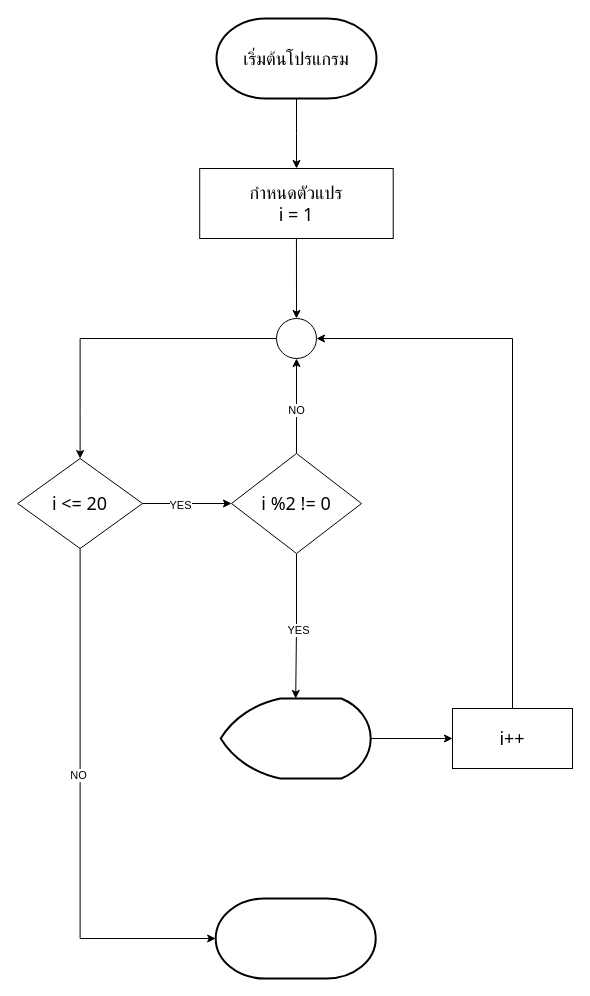
Some shapes in this 590 by 996 pixel diagram are drawn without their labels. The shapes that lost their labels are listed below. From the top down, each one's box as (x1, y1, x2, y2) in pixels, then its label:
(219, 697, 371, 779): แสดงเลขคู่ (i)
(214, 897, 376, 979): สิ้นสุดการทำงาน
